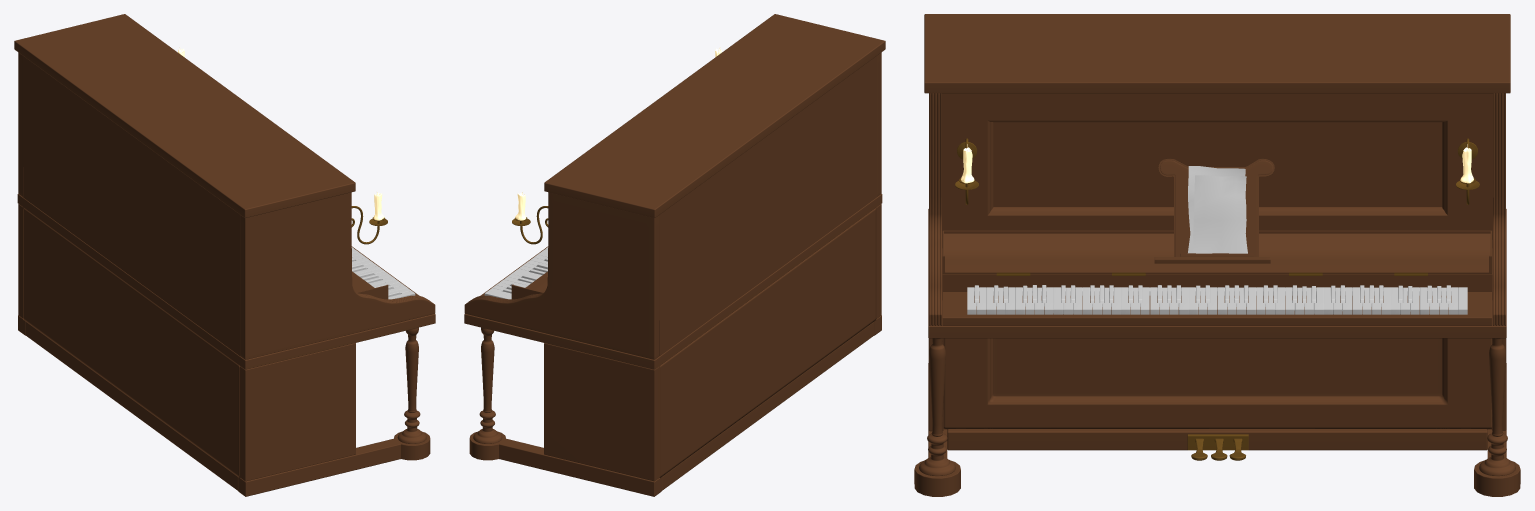
The model's file is piano_tex_v01.fbx.
3 renders of one model, left to right at view 1: azimuth 30°, elevation 25°; view 2: azimuth 150°, elevation 25°; view 3: azimuth 270°, elevation 25°, orthographic. The views are drawn at different scales.
Visible parts, largest first — view 1: mainPiano_geo, keys_geo; view 2: mainPiano_geo, keys_geo; view 3: mainPiano_geo, keys_geo, page_geo, metal_geo, candle_geo.
Boxes of the visible parts, <box> form: mainPiano_geo: <box>14,14,435,496</box>; keys_geo: <box>351,247,415,299</box>; mainPiano_geo: <box>464,14,885,496</box>; keys_geo: <box>484,247,548,299</box>; mainPiano_geo: <box>914,14,1520,496</box>; keys_geo: <box>967,285,1467,314</box>; page_geo: <box>1188,166,1247,253</box>; metal_geo: <box>955,138,1479,460</box>; candle_geo: <box>961,144,1473,183</box>.
Size of the model in its own units: 8.01 by 11.5 by 17.21.
